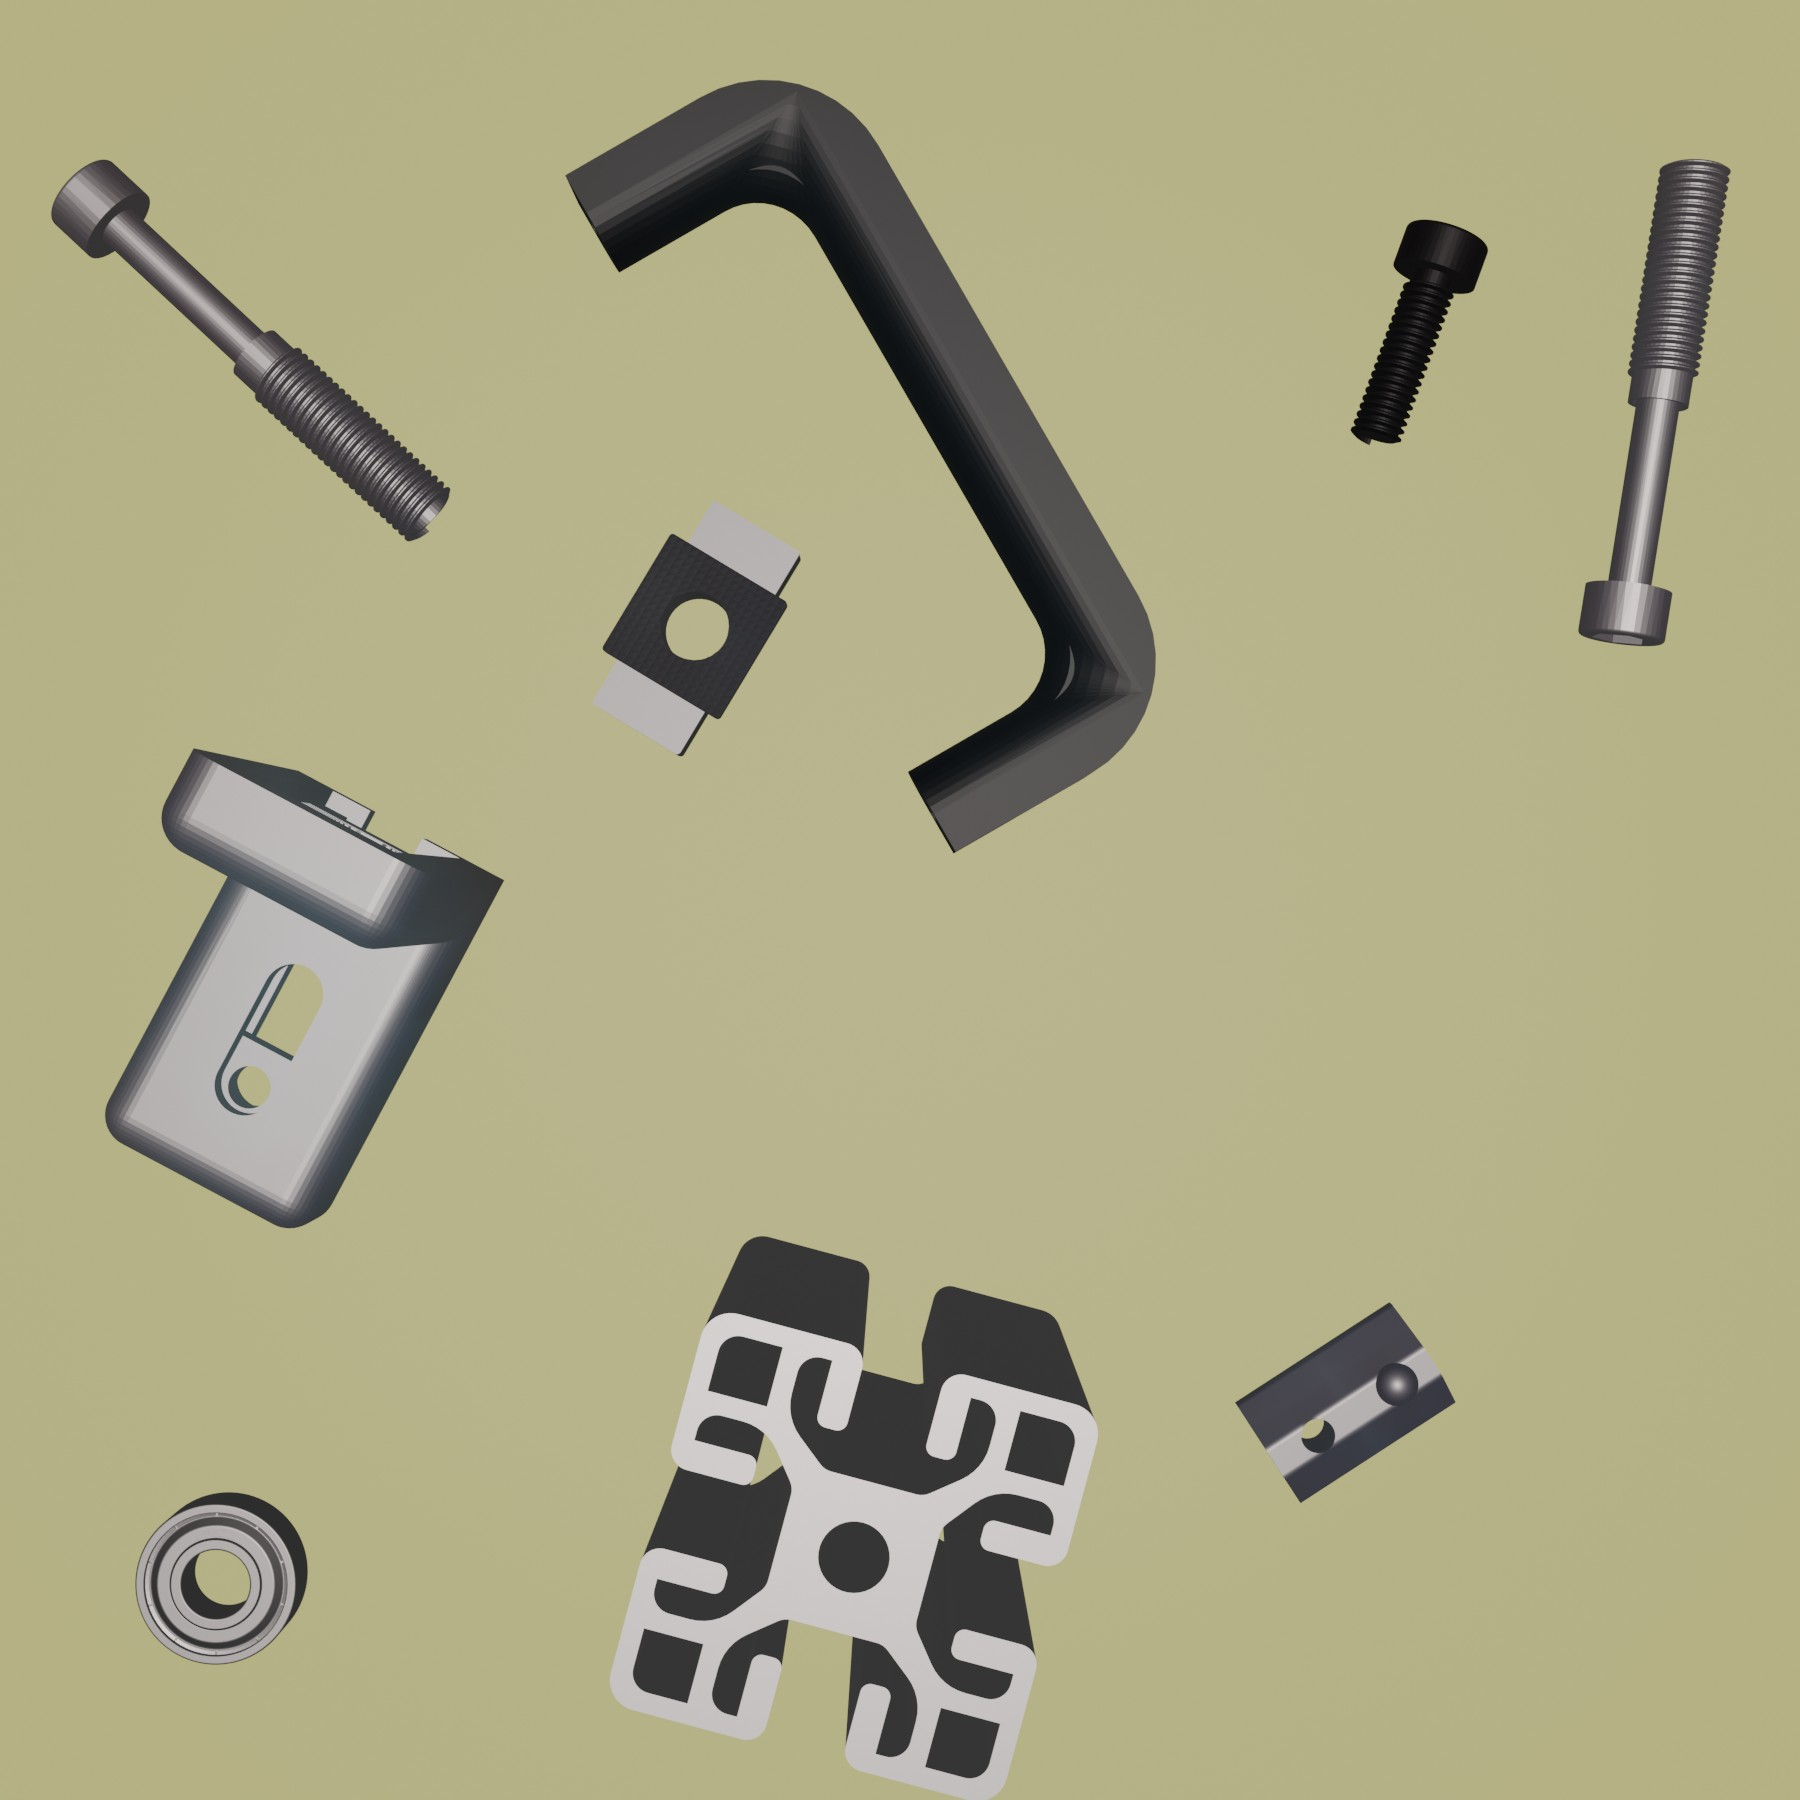Aluminium Extension: (607, 1235, 1101, 1800)
Ball Bearing: (130, 1488, 308, 1668)
Multiwinkel: (104, 743, 506, 1231)
Pull Handle: (564, 76, 1159, 859)
Shoulder Socket Head Cap Screw: (48, 155, 452, 542), (1576, 153, 1732, 649)
Socket Head Cap Screw: (1350, 216, 1488, 448)
T Nut Square: (597, 498, 803, 762)
T Spring Nut: (1233, 1296, 1455, 1503)
